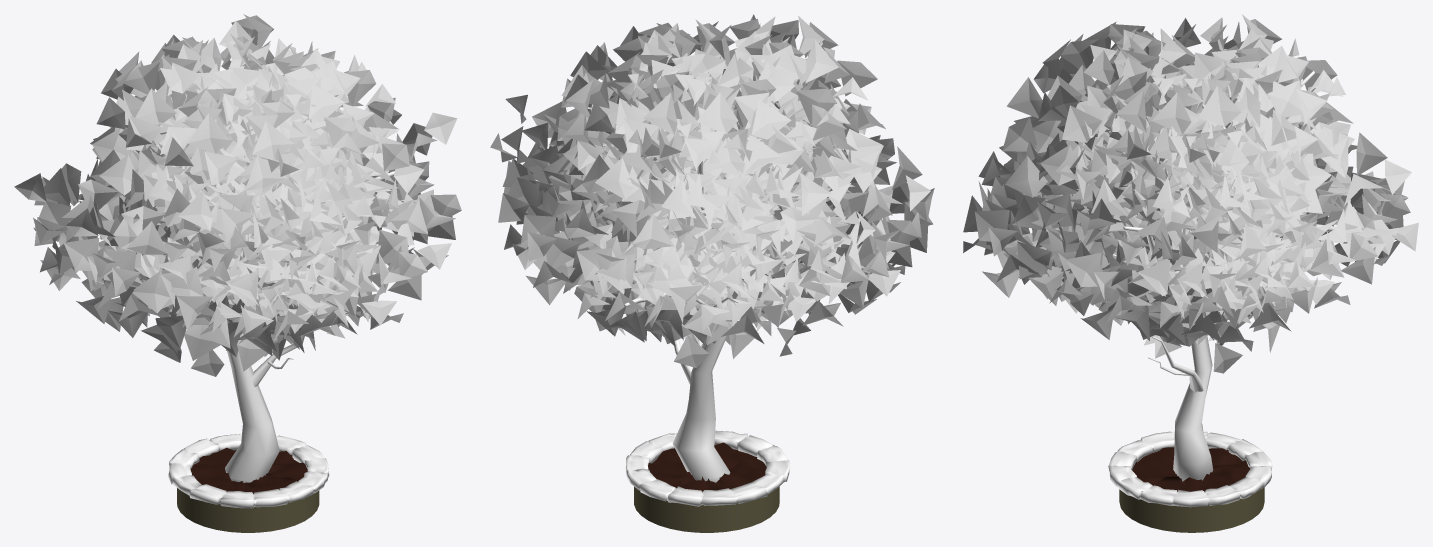
The model's file is Tree_Thick.fbx.
3 renders of one model, left to right at view 1: azimuth 30°, elevation 25°; view 2: azimuth 150°, elevation 25°; view 3: azimuth 270°, elevation 25°, orthographic. The views are drawn at different scales.
Visible parts, largest first — view 1: Leaves, Base, Stones_Encircle, treetrunk; view 2: Leaves, Base, Stones_Encircle, treetrunk; view 3: Leaves, Base, Stones_Encircle, treetrunk.
Part boxes in pixels (x1,y1,x2,y2): Leaves: (14, 14, 461, 376); Base: (177, 447, 319, 532); Stones_Encircle: (168, 434, 329, 508); treetrunk: (78, 91, 394, 482); Leaves: (490, 14, 934, 367); Base: (634, 442, 779, 532); Stones_Encircle: (625, 430, 789, 506); treetrunk: (624, 123, 738, 482); Leaves: (963, 14, 1418, 373); Base: (1119, 447, 1264, 532); Stones_Encircle: (1108, 431, 1272, 507); treetrunk: (1112, 70, 1335, 481).
Bounding box in the file's own units: 4.82 × 4.64 × 5.04.
